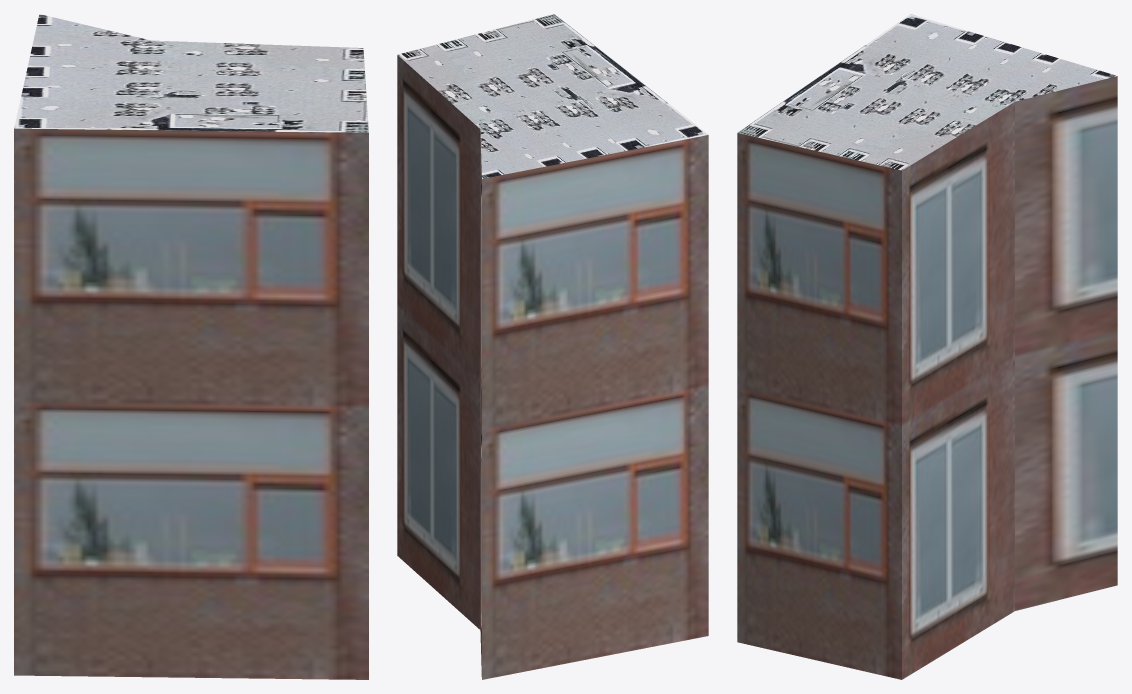
Rendered from ResTex__3392.fbx.
The picture shows the model from 3 angles, left to right: view 1: azimuth 30°, elevation 25°; view 2: azimuth 150°, elevation 25°; view 3: azimuth 270°, elevation 25°; orthographic projection. The views are drawn at different scales.
Parts seen in each view (by area): view 1: CityEngineMaterial_19_m, CityEngineMaterial_15_m; view 2: CityEngineMaterial_19_m, CityEngineMaterial_15_m; view 3: CityEngineMaterial_19_m, CityEngineMaterial_15_m.
Part boxes in pixels (bbox=[...]): CityEngineMaterial_19_m: bbox=[14, 128, 368, 679]; CityEngineMaterial_15_m: bbox=[14, 14, 368, 132]; CityEngineMaterial_19_m: bbox=[397, 55, 708, 679]; CityEngineMaterial_15_m: bbox=[397, 14, 707, 178]; CityEngineMaterial_19_m: bbox=[737, 76, 1117, 679]; CityEngineMaterial_15_m: bbox=[737, 14, 1116, 170].
Bounding box in the file's own units: 3.96 × 6 × 4.06.
2 materials, 2 textured.
